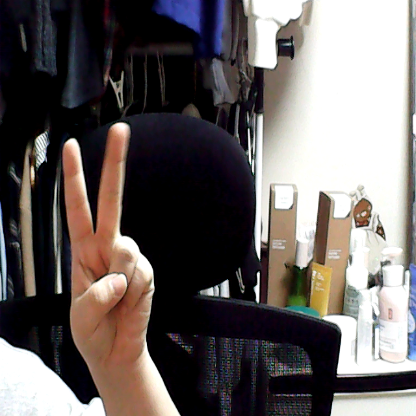Finger_2: (58, 119, 161, 345)
